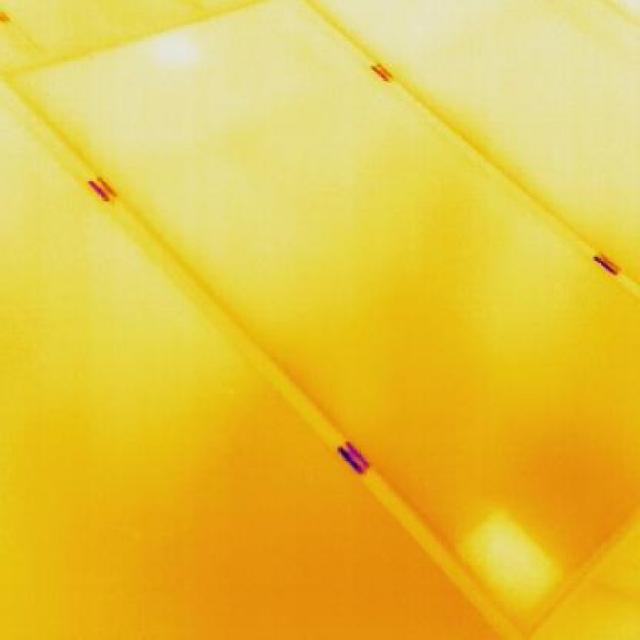hotspot: (453, 506, 576, 620)
